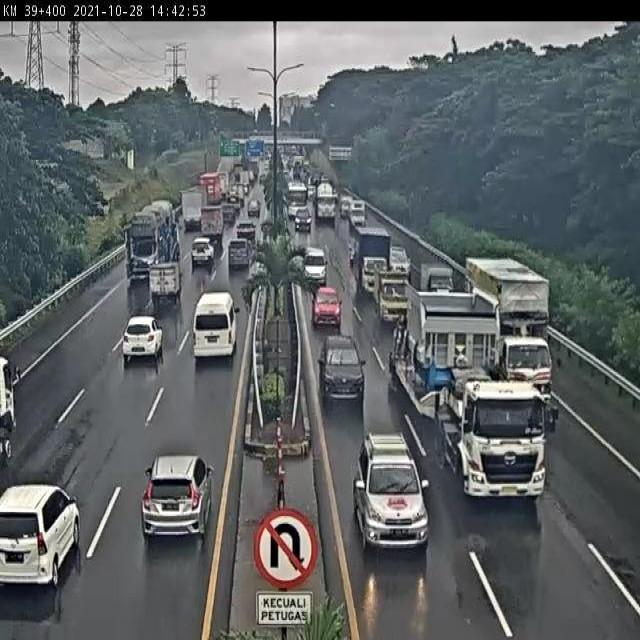big truck: (127, 202, 180, 286)
bus-s-: (302, 244, 327, 288)
car: (352, 433, 430, 548), (0, 485, 80, 588), (142, 456, 212, 544), (320, 336, 365, 407), (192, 292, 233, 359), (121, 316, 161, 363), (313, 285, 343, 328), (390, 244, 412, 283), (189, 235, 213, 265)
small truck: (148, 261, 179, 300)
truck-l-: (465, 256, 556, 415)
truck-m-: (375, 273, 418, 331), (353, 227, 391, 292)
truck-s-: (421, 264, 455, 297)
truck-xl-: (393, 293, 554, 499)
